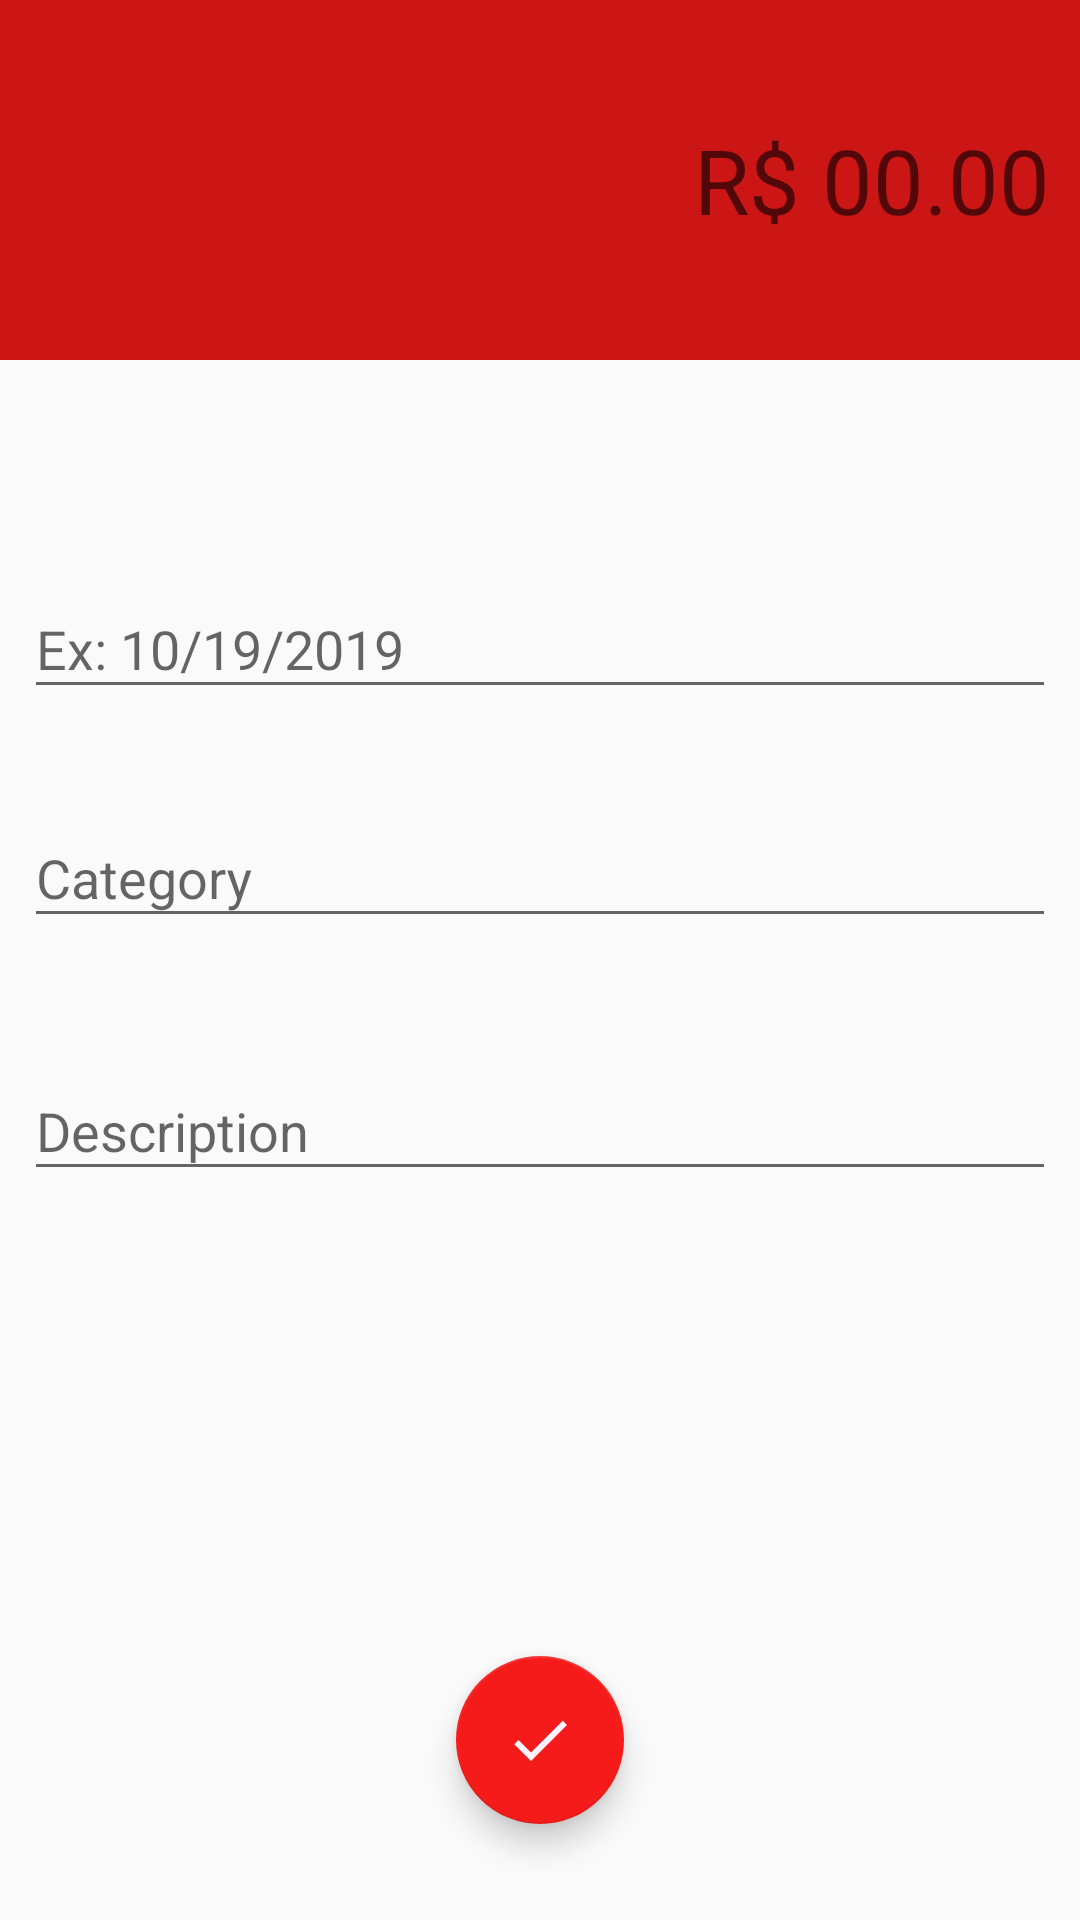

Icon bounding boxes for this 1080 × 1920 phone screenshot, format (x1, y1, x2, y2):
check: (456, 1656, 624, 1824)
